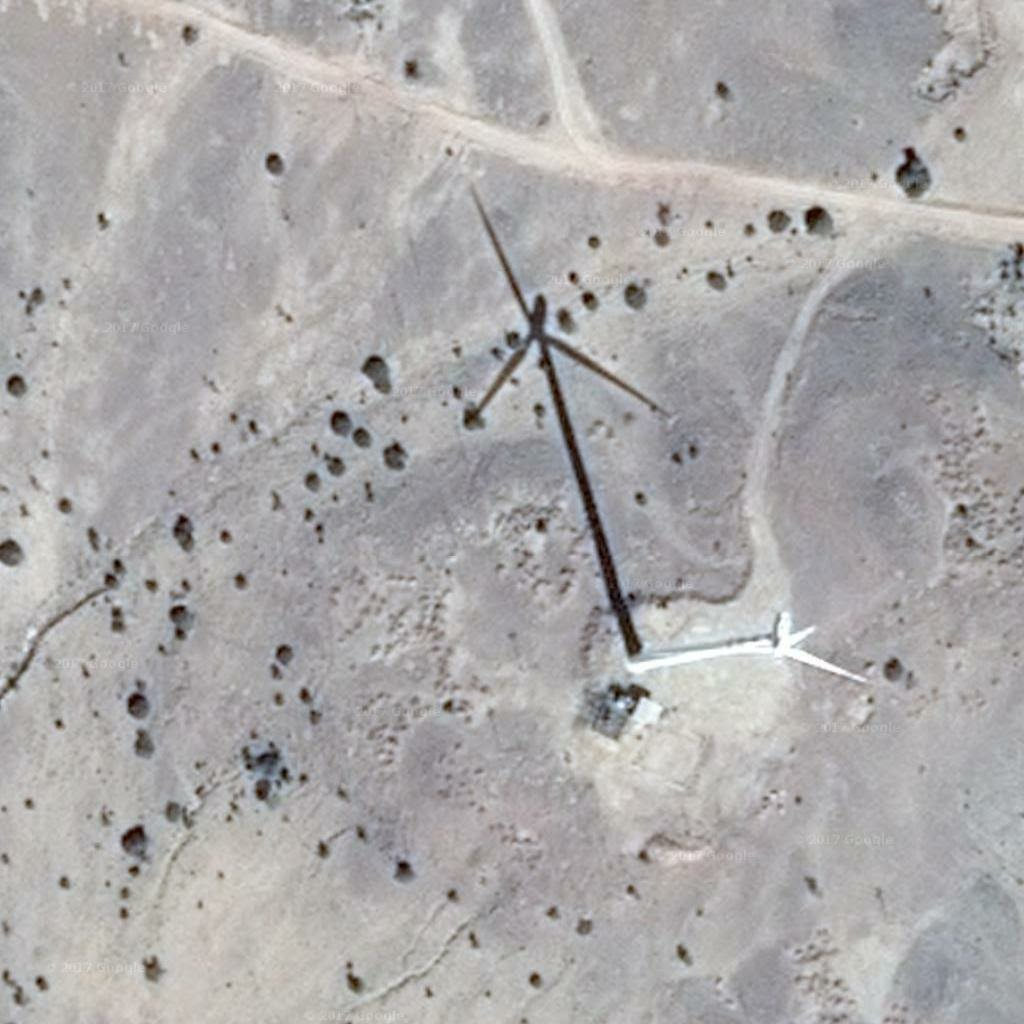Windmill: (458, 184, 648, 630)
